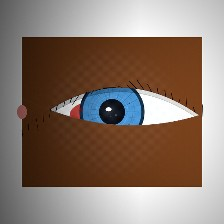hemorrhage_spot: (57, 77, 150, 151)
